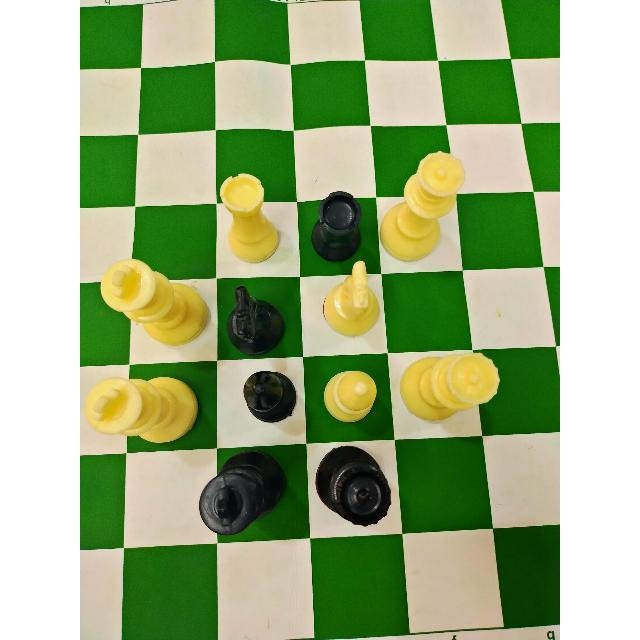black-bishop: (236, 366, 298, 430)
black-king: (200, 451, 296, 538)
black-knight: (221, 284, 299, 356)
black-queen: (313, 443, 396, 526)
black-rook: (308, 186, 379, 261)
white-bishop: (320, 366, 380, 429)
white-king: (94, 252, 211, 350), (84, 373, 200, 442)
white-knight: (322, 260, 386, 336)
white-queen: (376, 147, 468, 259), (396, 350, 505, 425)
white-rook: (215, 167, 287, 264)
